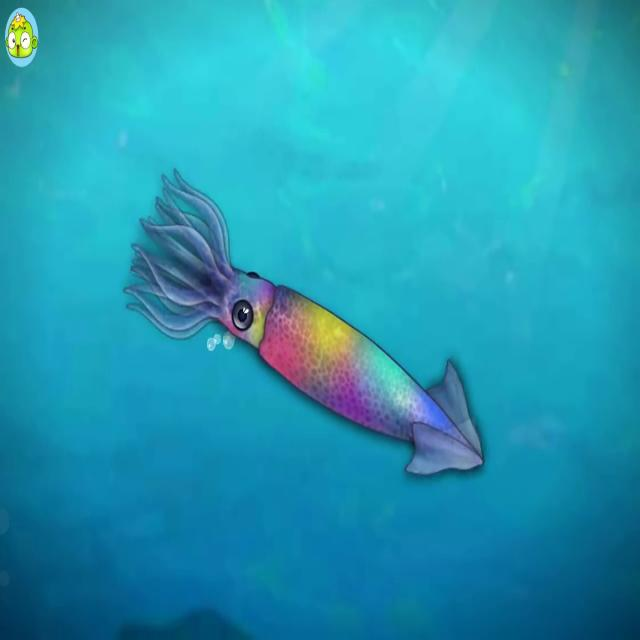squid: (122, 171, 484, 477)
